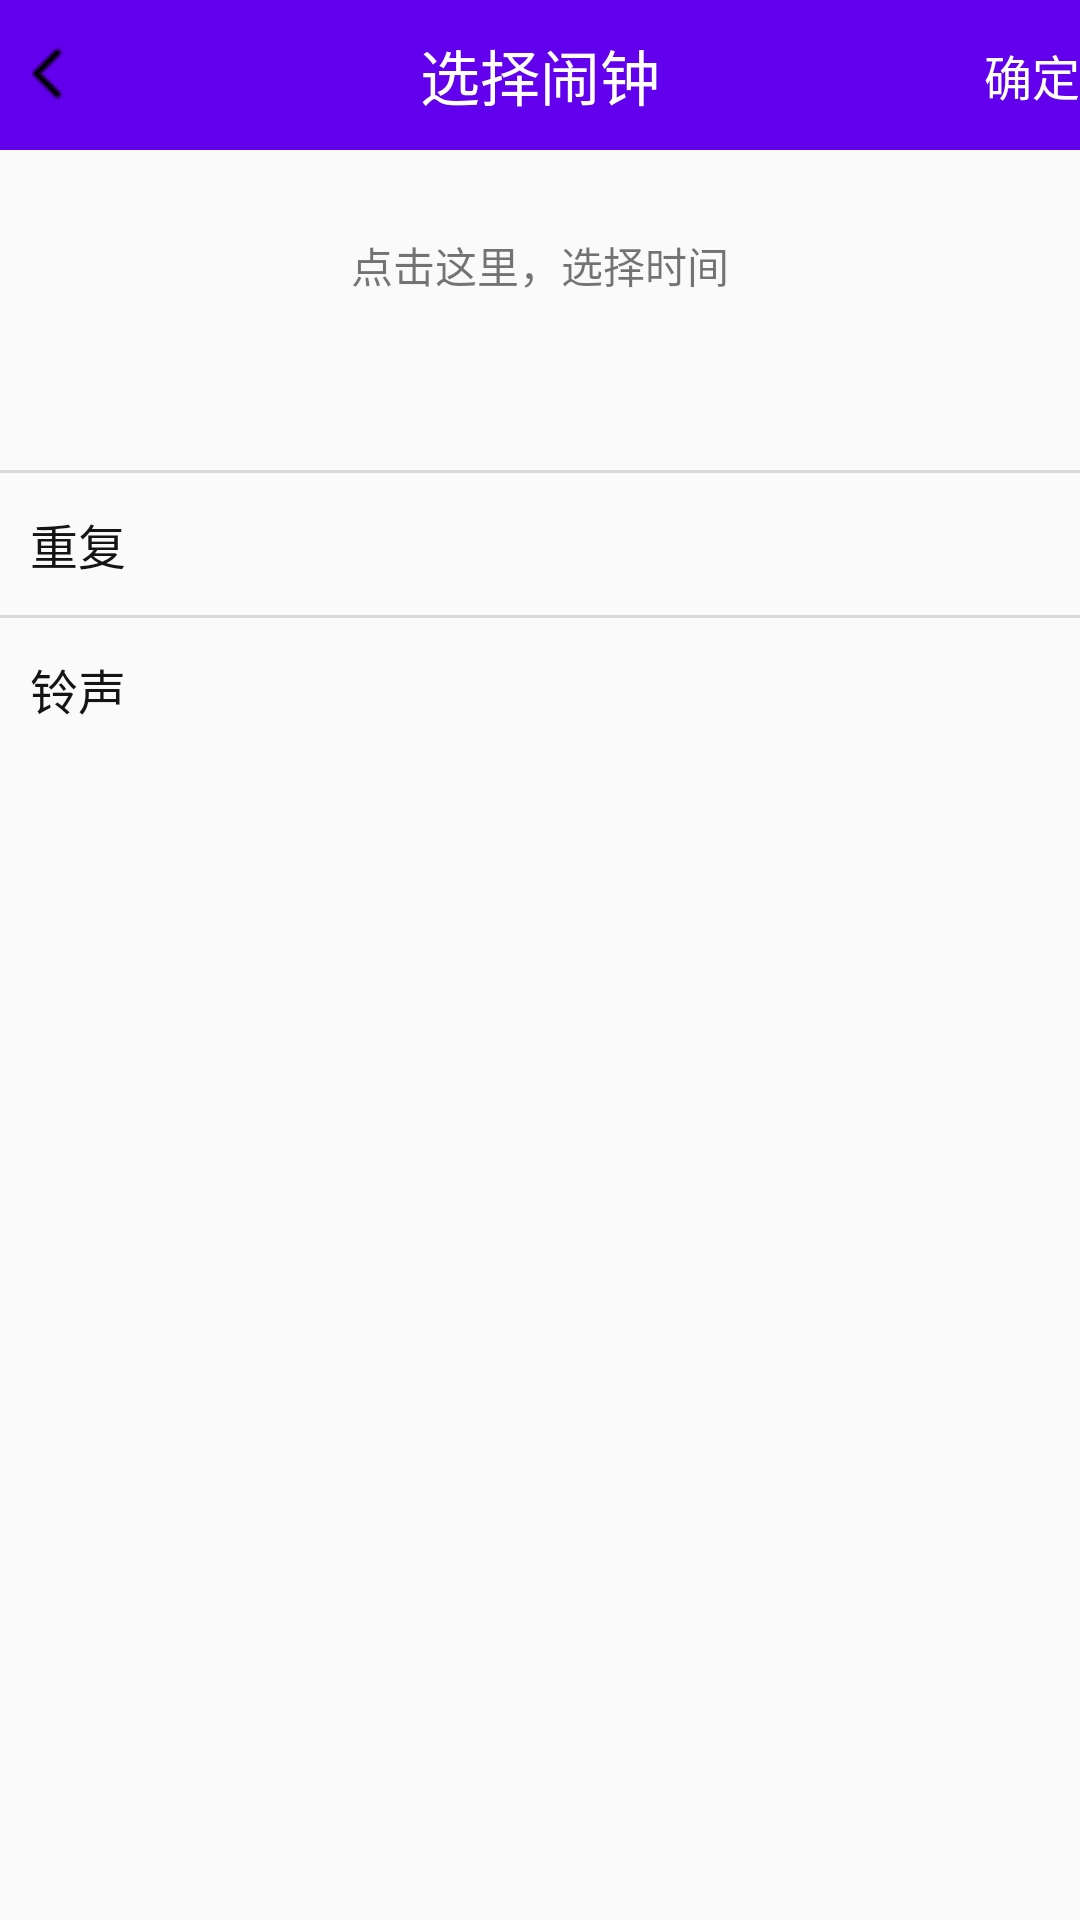

Locate icon controls on the screen. Image size 1080w x 1920h, boxes as {"x1": x1, "y1": y1, "x2": x2, "y2": y2}.
back: {"x1": 32, "y1": 47, "x2": 63, "y2": 100}
